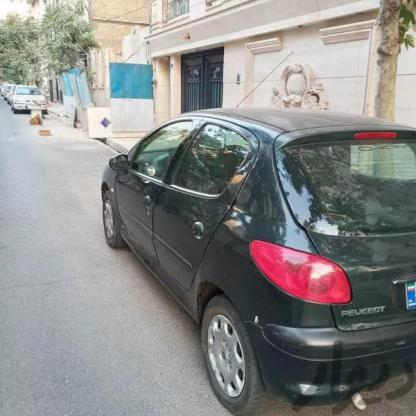Car: (93, 104, 416, 416), (15, 83, 58, 115)
